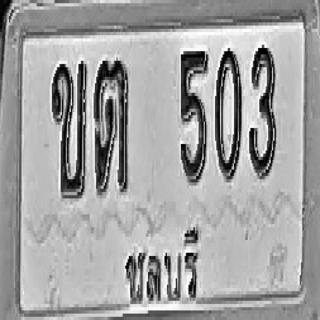A02: (51, 61, 87, 198)
A21: (94, 58, 129, 195)
N00: (214, 46, 241, 181)
N03: (249, 43, 276, 178)
N05: (179, 50, 208, 184)
P13: (123, 217, 198, 310)
